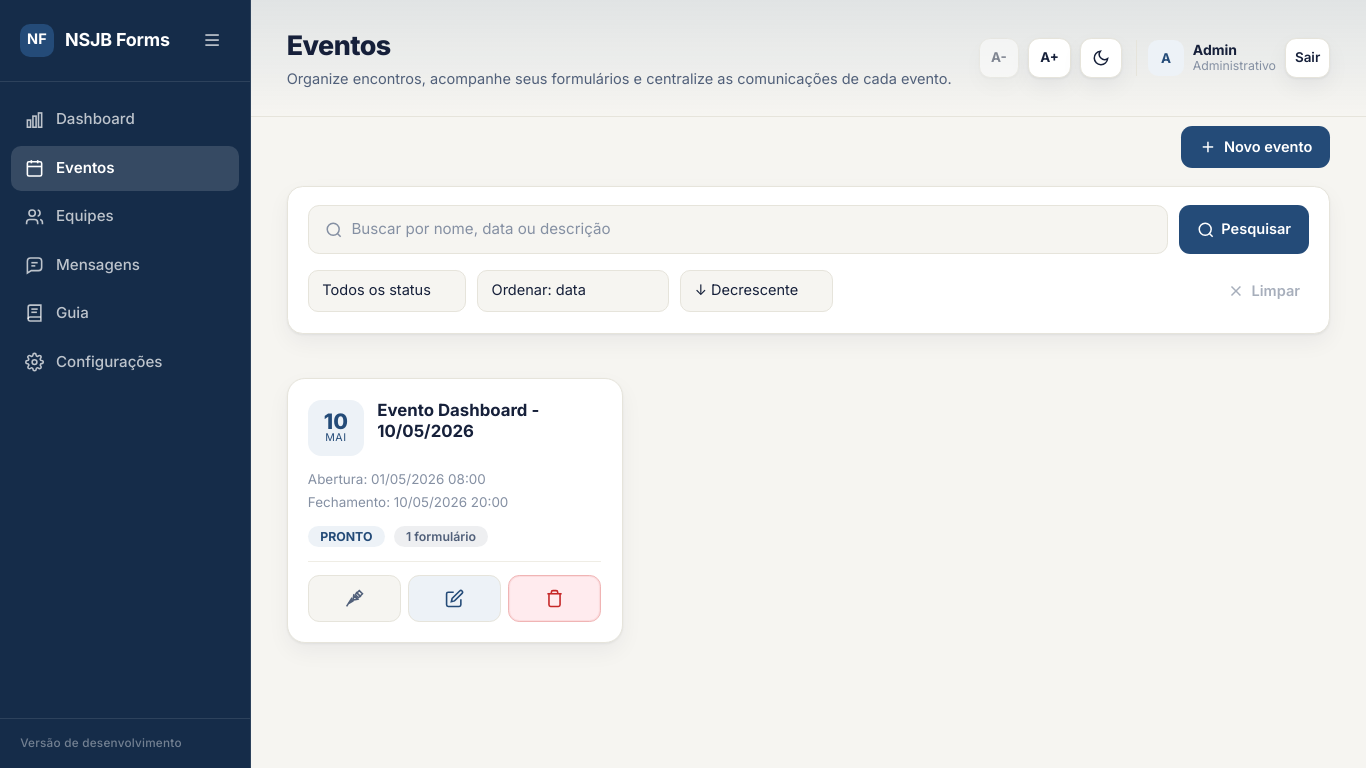
Test: App dashboard flow › abre a listagem quando clica na aba Eventos depois do dashboard
Click the text "Evento Dashboard - 10/05/2026": (458, 420) [377,400,539,441]
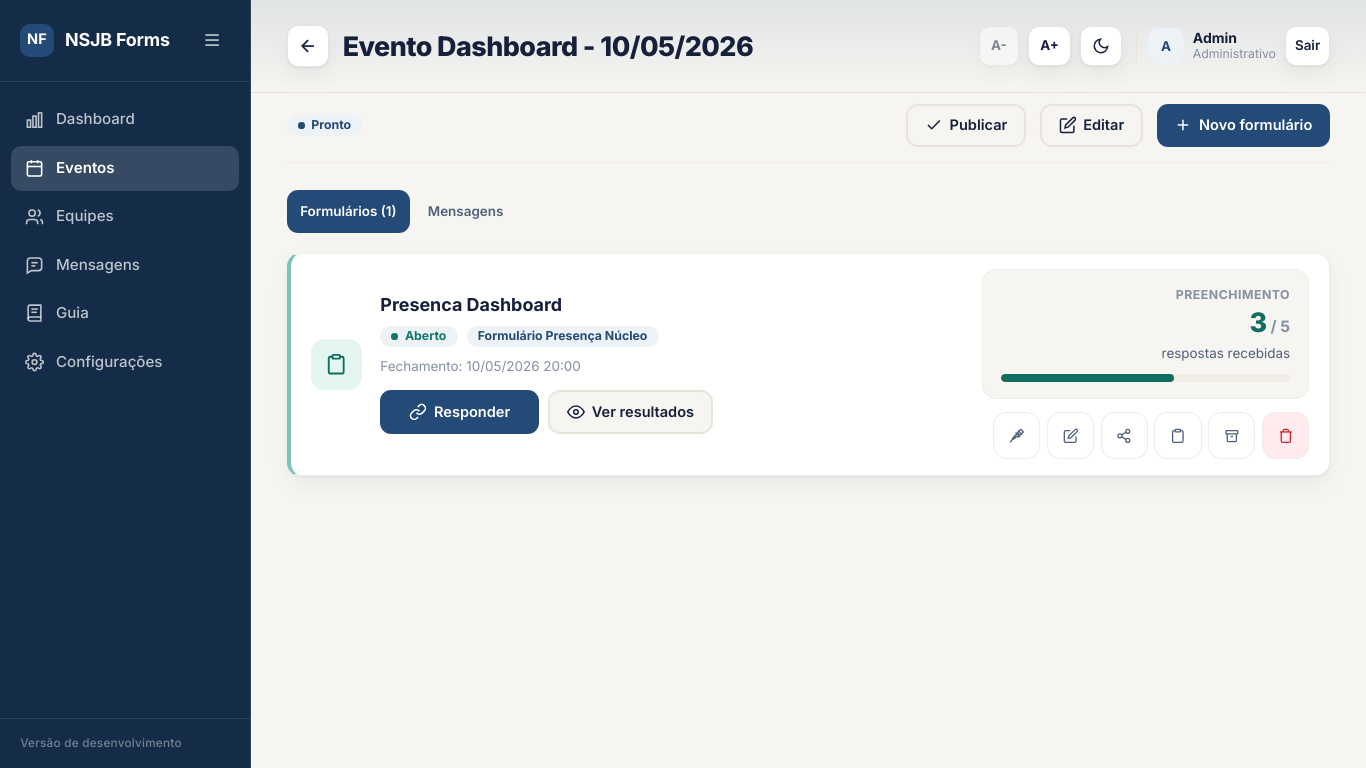
Expected: the button named "Voltar" is shown, [287,25,329,67]
Click the button "Dashboard": (125, 120) [11,97,239,142]
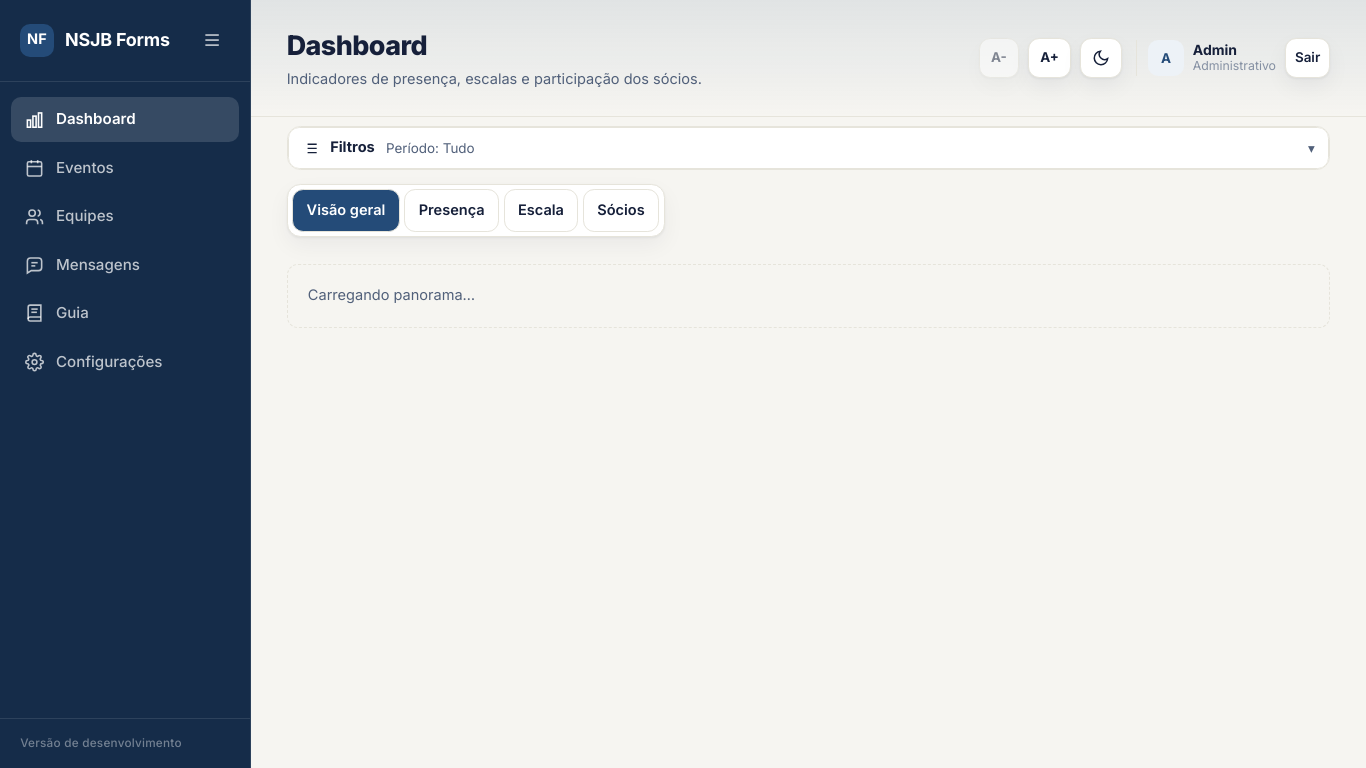
Expected: the heading "Dashboard" is shown, [287,29,427,61]
Click the button "Eventos": (125, 168) [11,146,239,191]
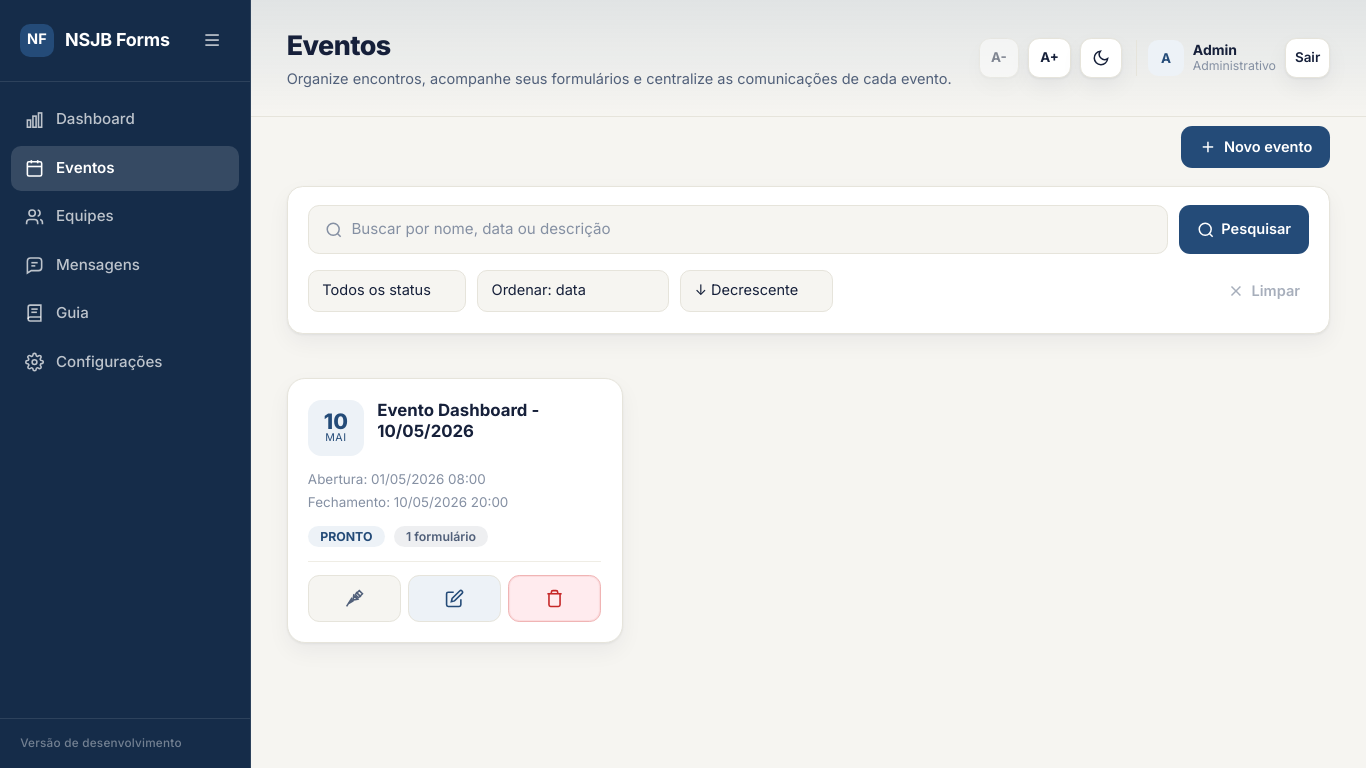
Expected: the heading "Eventos" is shown, [287,29,391,61]
Expected: the button "Evento Dashboard" is shown, [287,378,623,643]
